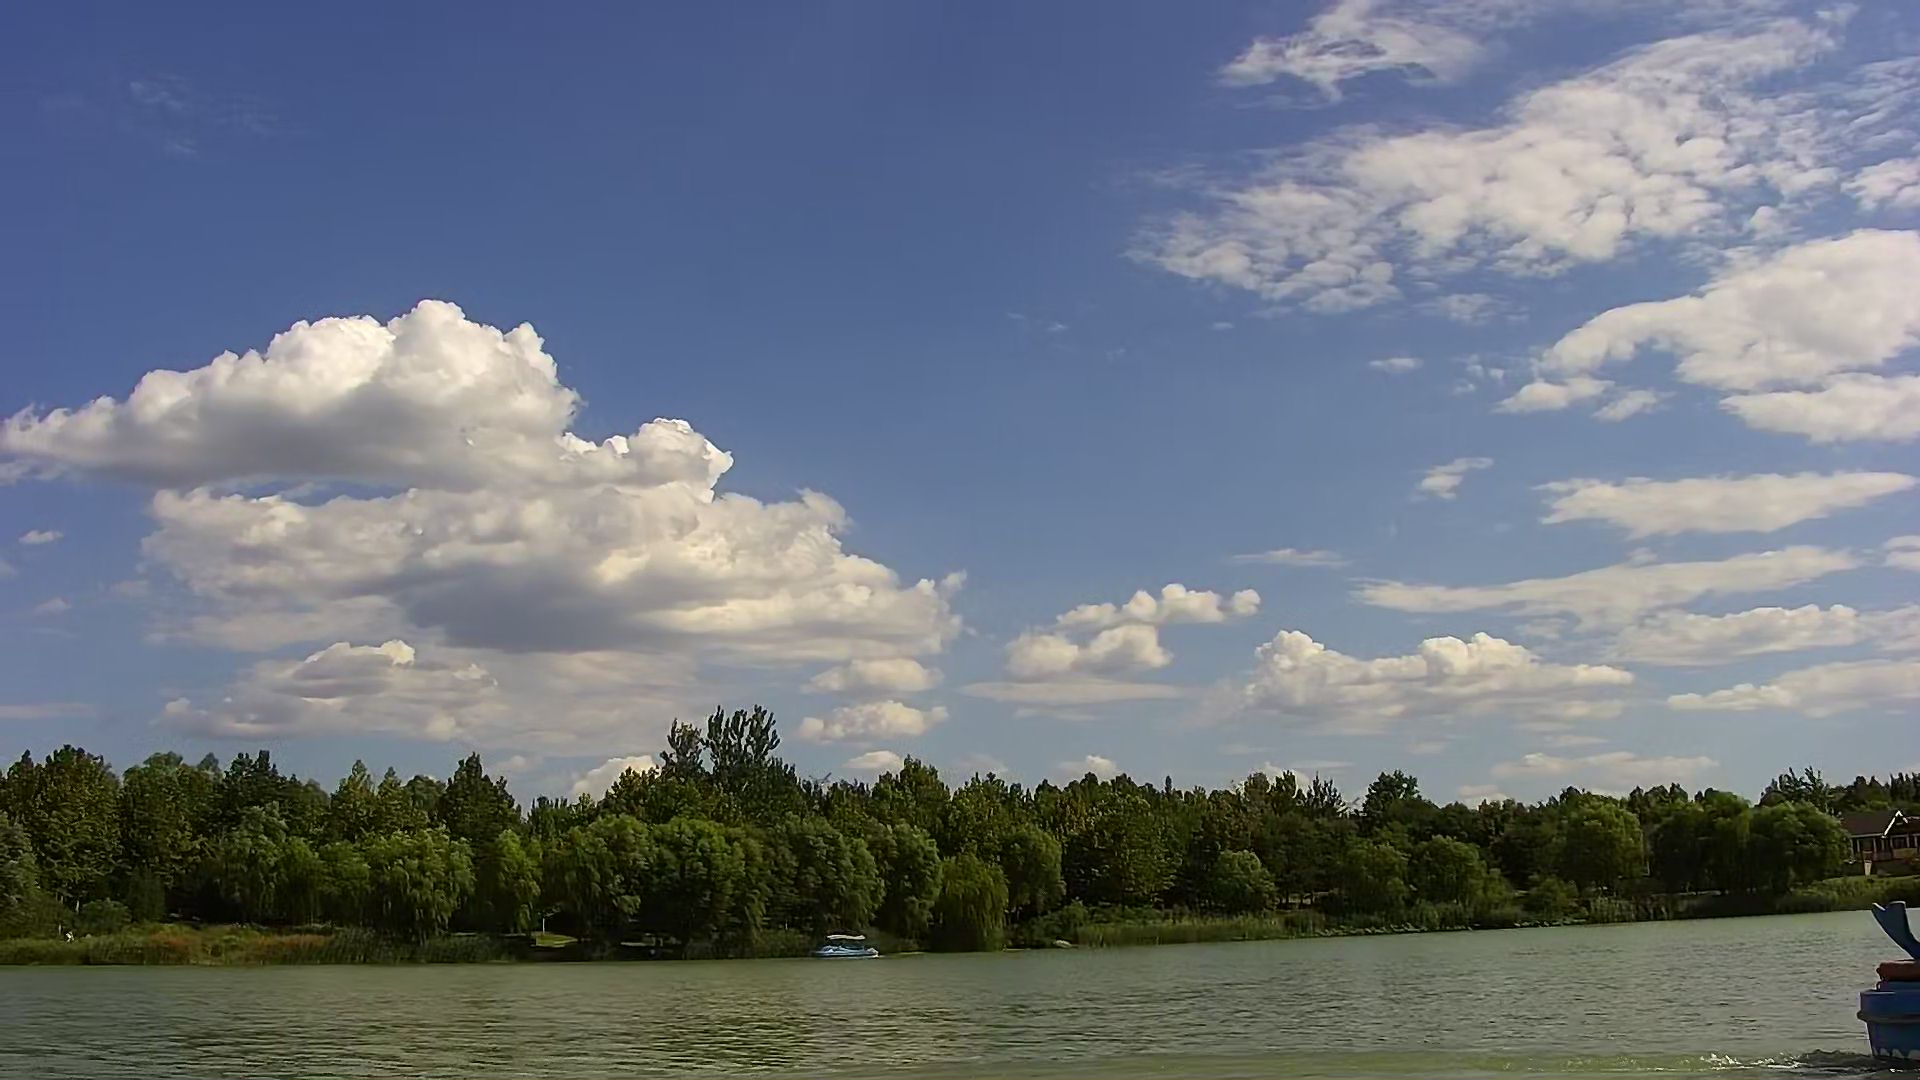boat: (814, 926, 889, 965)
